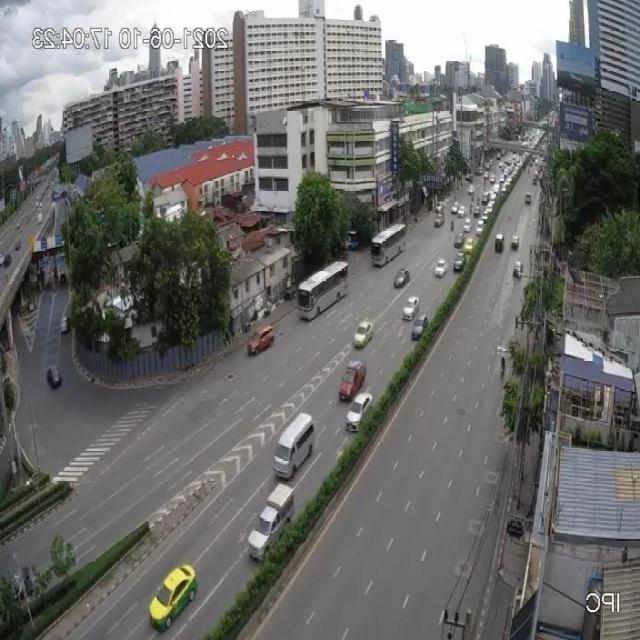Bus: (297, 256, 348, 322), (371, 224, 406, 265)
Car: (148, 562, 198, 630), (339, 358, 366, 401), (346, 390, 373, 431), (247, 324, 275, 356), (352, 320, 376, 350), (412, 314, 428, 339), (403, 296, 419, 320), (46, 364, 62, 388), (12, 576, 26, 601), (394, 268, 410, 288), (434, 258, 447, 278), (453, 254, 465, 272), (494, 233, 504, 252), (512, 260, 522, 278), (60, 315, 69, 334), (464, 238, 474, 255), (454, 233, 464, 248), (482, 208, 491, 224), (434, 214, 444, 228), (1, 254, 11, 268), (511, 234, 520, 249), (475, 222, 484, 236), (463, 218, 472, 232), (347, 240, 359, 250), (451, 202, 459, 215), (457, 204, 465, 217), (473, 204, 481, 217), (482, 190, 490, 203), (435, 202, 444, 212), (32, 205, 39, 216), (525, 192, 531, 204), (468, 184, 474, 196), (529, 158, 535, 170), (476, 166, 483, 175), (534, 157, 541, 166), (15, 240, 21, 250), (35, 197, 41, 207), (532, 175, 537, 185), (490, 174, 495, 184), (466, 173, 472, 181), (500, 150, 506, 158)
Truck: (248, 482, 296, 560)
Van: (273, 412, 315, 480)
